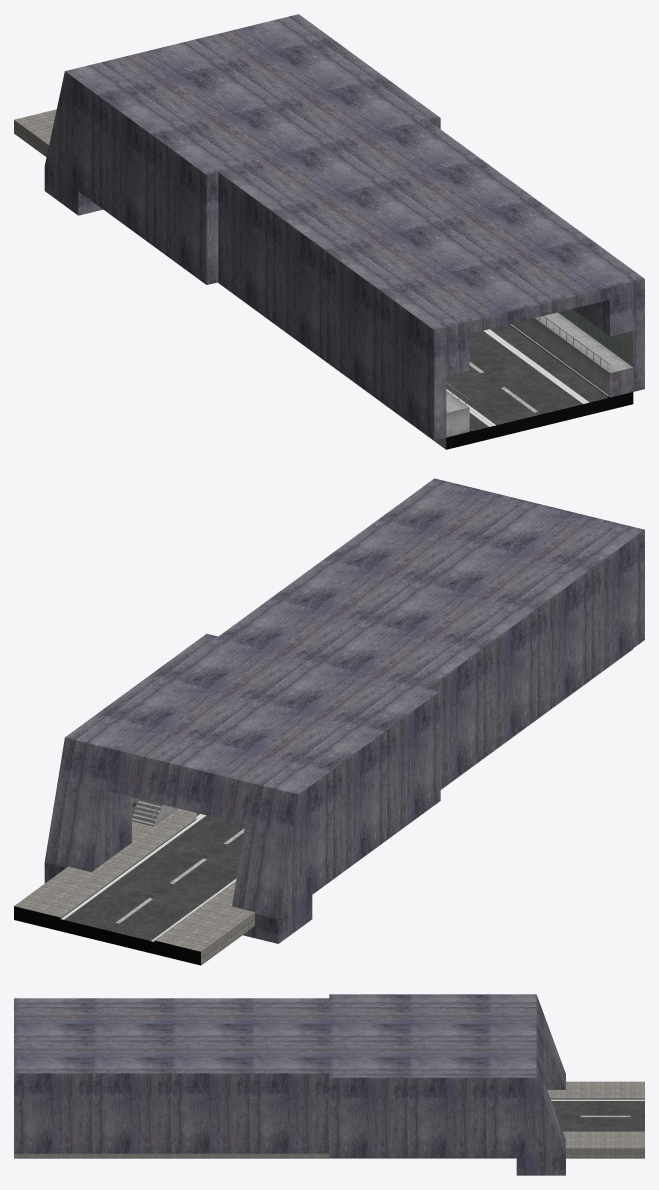
Rendered from SnglTunnelEnterExit_high.fbx.
3 views of the same model, one above another, from view 1: azimuth 30°, elevation 25°; view 2: azimuth 150°, elevation 25°; view 3: azimuth 270°, elevation 25° (orthographic). The views are drawn at different scales.
Parts seen in each view (by area): view 1: materialF150, materialA150, materialI150, materialB150, materialC150, materialH150; view 2: materialF150, materialA150, materialC150, materialB150, materialI150; view 3: materialF150, materialC150, materialA150.
Boxes of the visible parts, box(x1,y1,x2,y2) form: materialF150: box(44, 14, 644, 440); materialA150: box(446, 324, 607, 431); materialI150: box(446, 312, 632, 437); materialB150: box(446, 392, 633, 449); materialC150: box(14, 109, 446, 449); materialH150: box(558, 309, 633, 366); materialF150: box(44, 478, 644, 943); materialA150: box(61, 813, 244, 941); materialC150: box(14, 649, 632, 965); materialB150: box(14, 906, 200, 965); materialI150: box(132, 799, 178, 826); materialF150: box(14, 994, 565, 1175); materialC150: box(14, 1081, 644, 1158); materialA150: box(551, 1099, 644, 1131).
Size of the model in its own units: 32 by 17.6 by 102.
